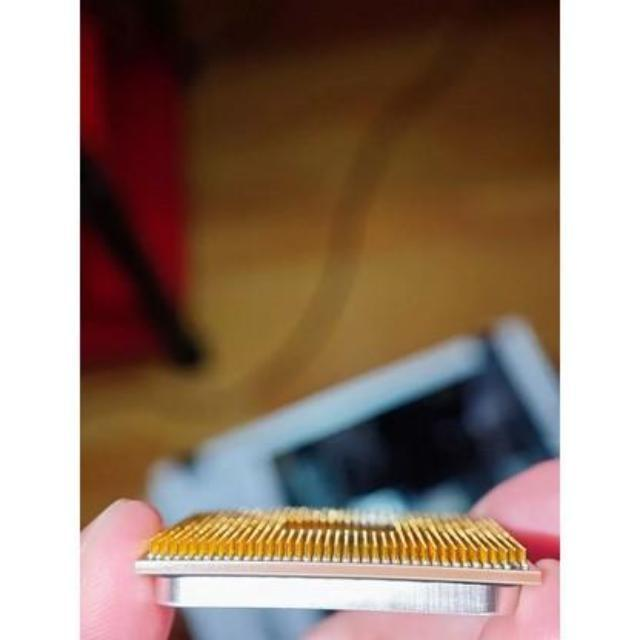CPU: (138, 487, 540, 627)
